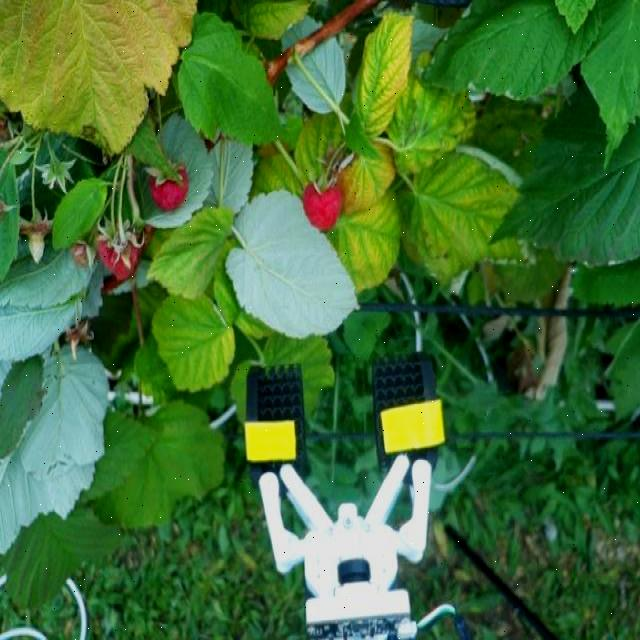Riped berries: (300, 176, 344, 232), (97, 228, 139, 282), (147, 160, 190, 212)
